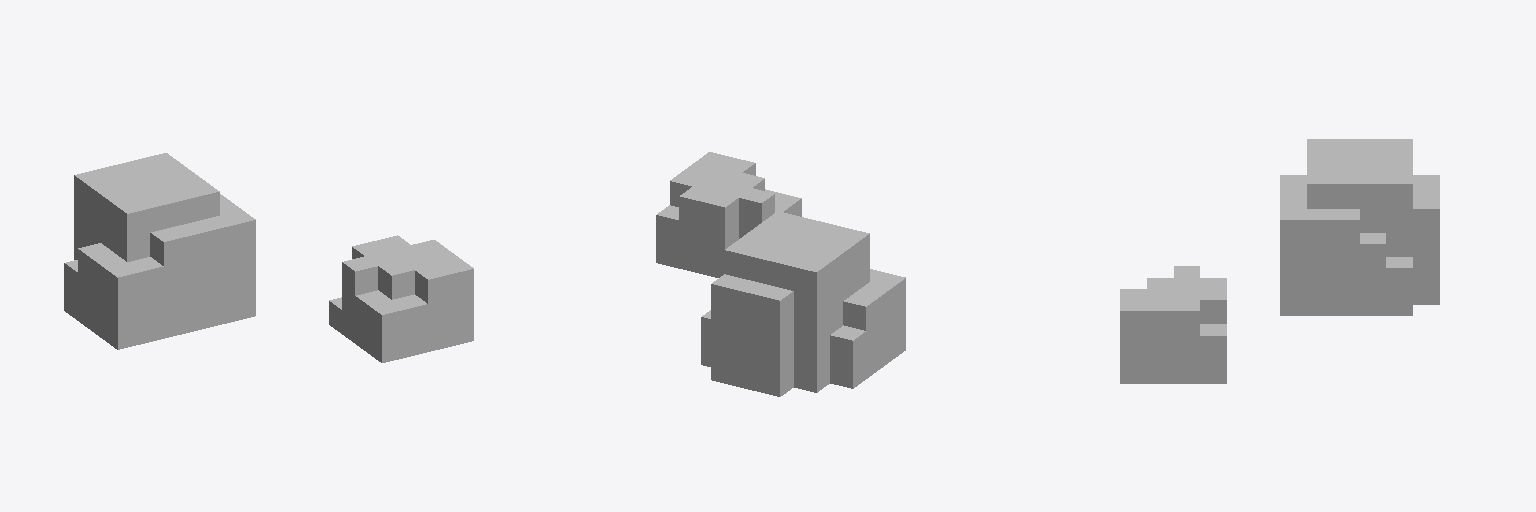
The model's file is Pedra 6.obj.
The picture shows the model from 3 angles: view 1: azimuth 30°, elevation 25°; view 2: azimuth 150°, elevation 25°; view 3: azimuth 270°, elevation 25°; orthographic projection.
Visible parts, largest first — view 1: object 1; view 2: object 1; view 3: object 1.
Boxes of the visible parts, box(x1,y1,x2,y2) form: object 1: box(64, 153, 473, 362); object 1: box(656, 152, 905, 396); object 1: box(1120, 139, 1439, 383).
Size of the model in its own units: 1.2 by 0.5 by 1.2.